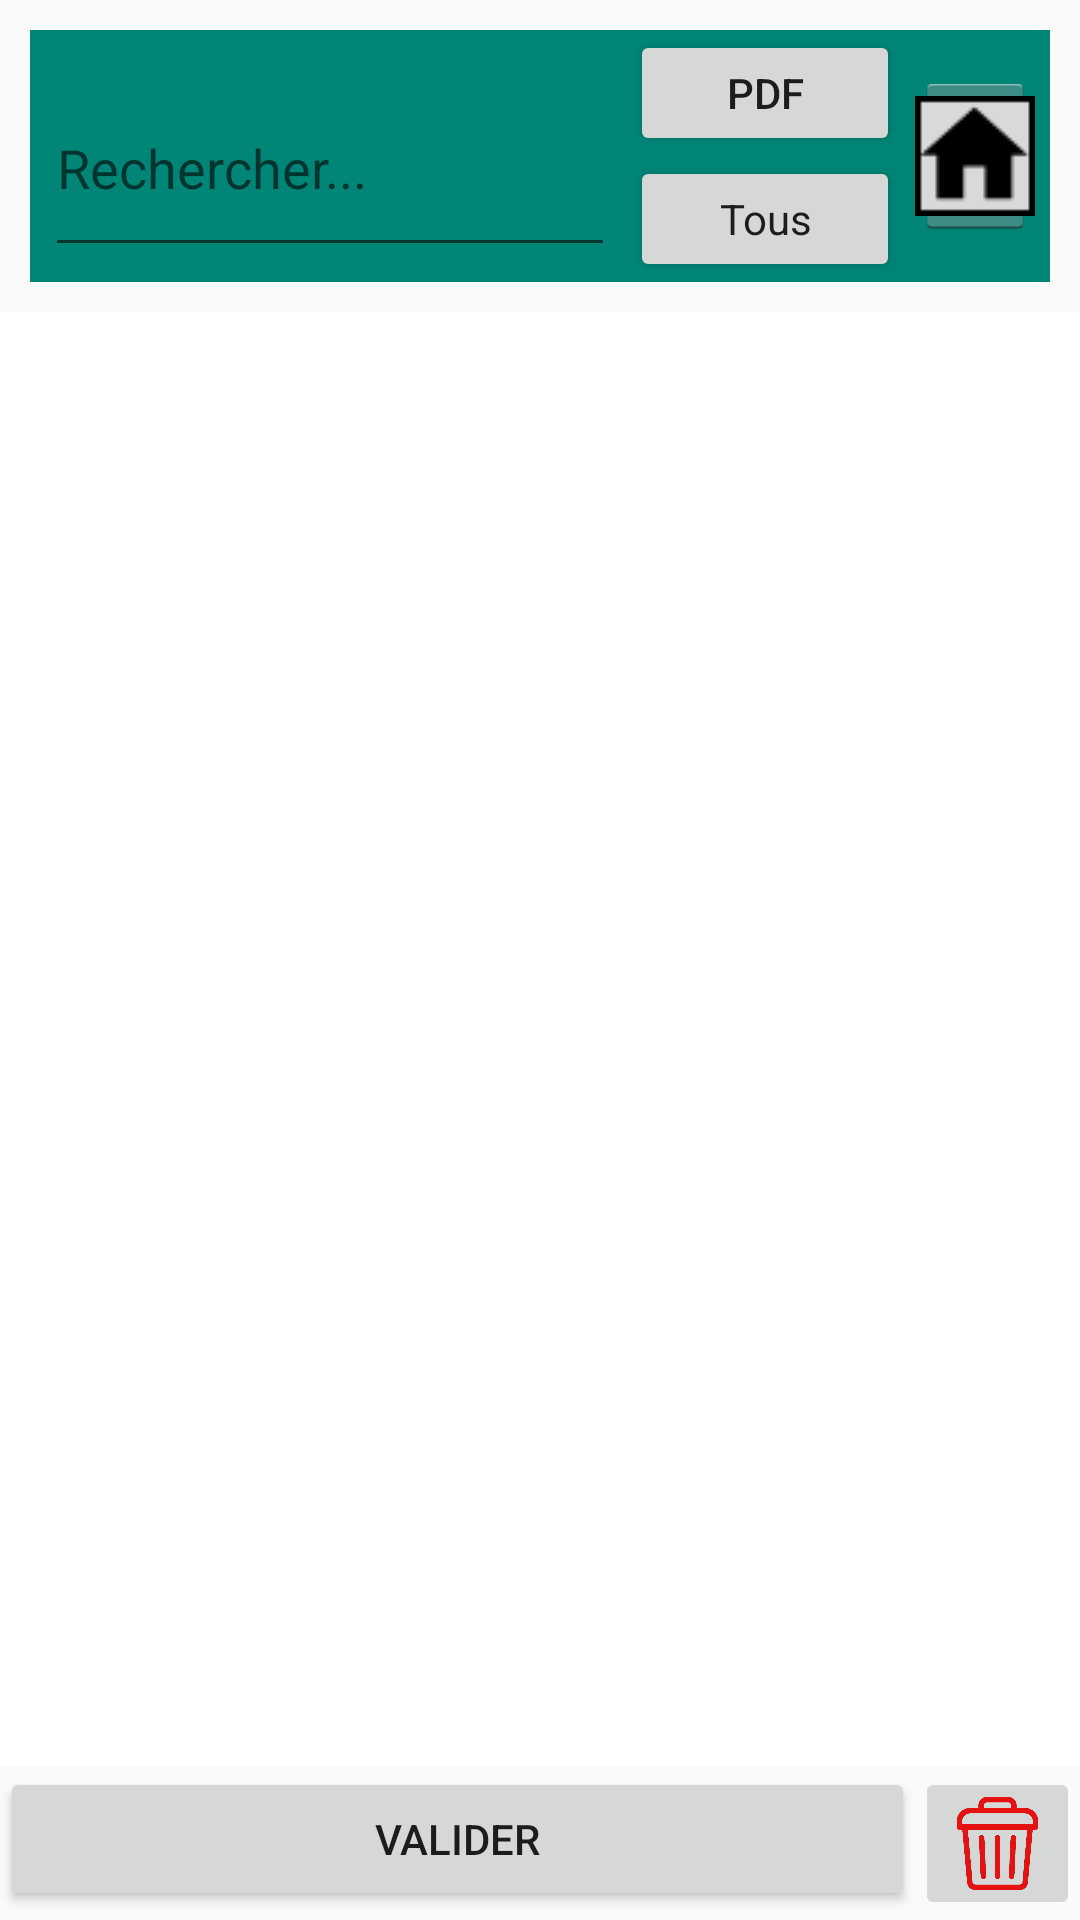

Named icons in this screenshot (1080*1920) and their centers, (x=x, y=y):
home: (x=975, y=156)
poubelle: (x=997, y=1843)
